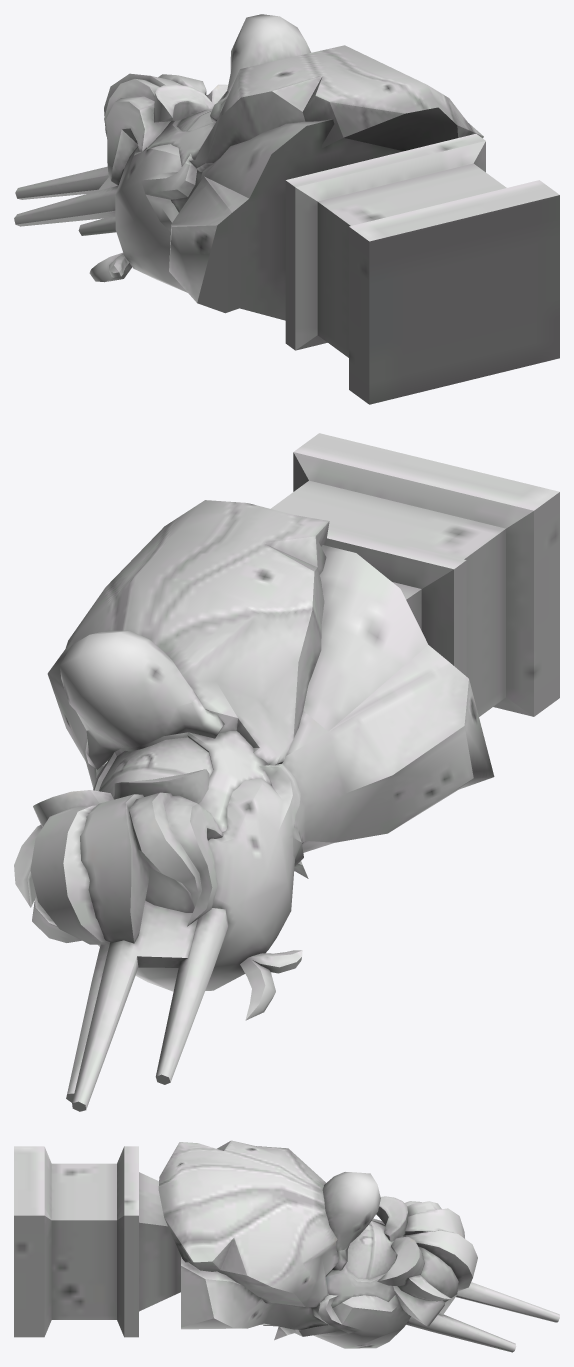
The model's file is KingRoriousBust.fbx.
The picture shows the model from 3 angles, top to bottom: view 1: azimuth 30°, elevation 25°; view 2: azimuth 150°, elevation 25°; view 3: azimuth 270°, elevation 25°; orthographic projection. The views are drawn at different scales.
Parts seen in each view (by area): view 1: GloriousKingRorious; view 2: GloriousKingRorious; view 3: GloriousKingRorious.
Boxes of the visible parts, x1,y1,x2,y2 form: GloriousKingRorious: (14,14,559,404); GloriousKingRorious: (14,433,559,1111); GloriousKingRorious: (14,1140,559,1352).
Size of the model in its own units: 44.89 by 39.19 by 88.94.
